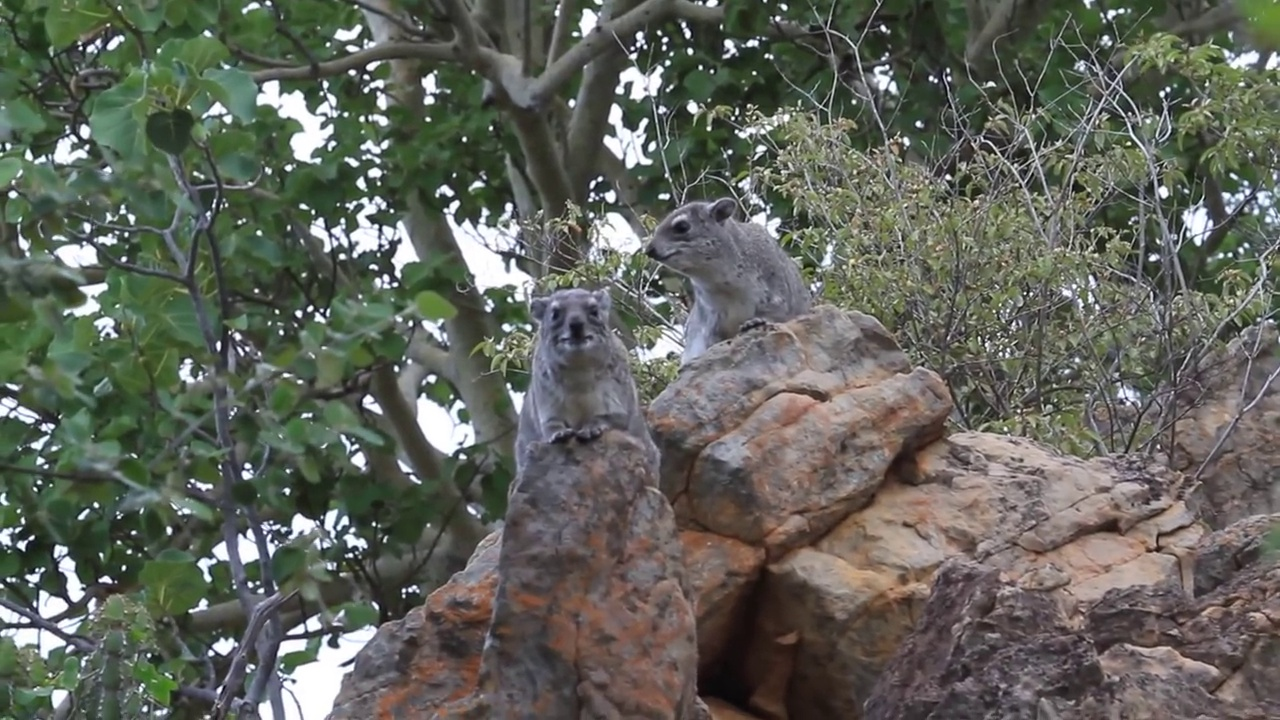Rock Hyrex: (508, 282, 664, 473), (639, 198, 812, 370)
